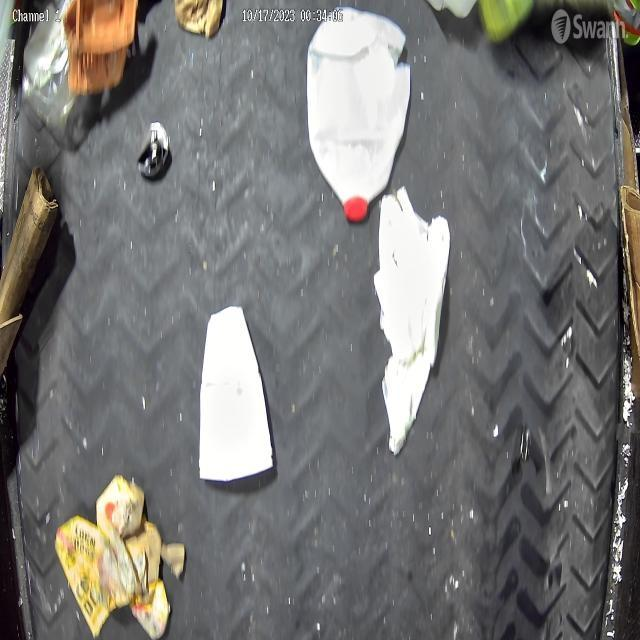milk_jug: (306, 8, 413, 225)
